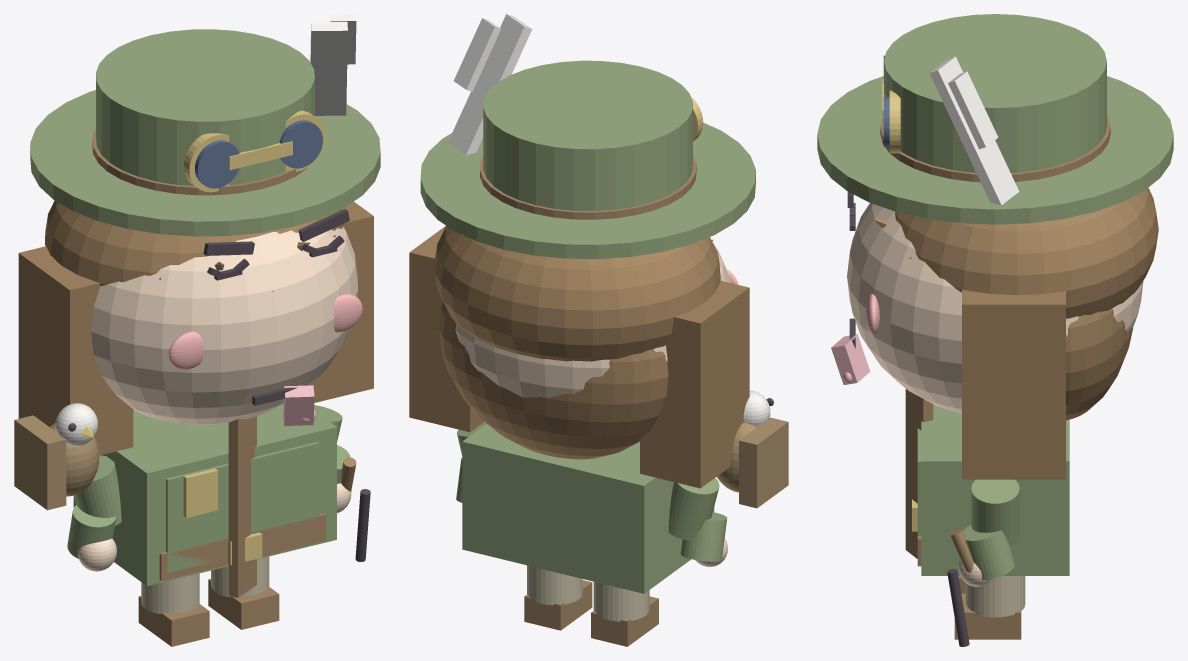
File: tamer.glb
The picture shows the model from 3 angles, left to right: view 1: azimuth 30°, elevation 25°; view 2: azimuth 150°, elevation 25°; view 3: azimuth 270°, elevation 25°; orthographic projection. The views are drawn at different scales.
Parts seen in each view (by area): view 1: Head, HatCrown, HatBrim, Coat, HairSide_L, CoatFront, HairCap, HairSide_R, Sash, EagleWing, Belt, Feather (+24 smaller); view 2: HatCrown, HairCap, Coat, HatBrim, HairSide_L, HairBack, HairSide_R, Head, EagleWing, Feather, HatBand, UpperArm_L (+8 smaller); view 3: HatCrown, HatBrim, HairSide_R, HairCap, Head, Coat, HairBack, Feather, UpperArm_R, Sash, Leg_R, HatBand (+8 smaller).
Part boxes in pixels (x1,y1,x2,y2): Head: (91,226,357,424); HatCrown: (96,29,314,185); HatBrim: (30,90,380,236); Coat: (73,404,336,585); HairSide_L: (18,246,133,455); CoatFront: (166,442,319,572); HairCap: (45,200,343,286); HairSide_R: (310,201,373,402); Sash: (228,416,256,597); EagleWing: (14,415,66,510); Belt: (159,513,326,580); Feather: (310,22,347,115); HatCrown: (483,60,692,210); HairCap: (434,226,720,361); Coat: (462,424,714,593); HatBrim: (420,122,755,258); HairSide_L: (640,280,749,488); HairBack: (439,300,668,459); HairSide_R: (409,226,484,432); Head: (455,243,731,397); EagleWing: (739,417,788,508); Feather: (448,14,532,154); HatBand: (480,155,696,219); UpperArm_L: (668,478,719,540); HatCrown: (884,14,1106,172); HatBrim: (817,76,1173,224); HairSide_R: (962,290,1065,479); HairCap: (895,187,1158,318); Head: (847,203,1143,413); Coat: (921,404,1069,575); HairBack: (1066,308,1132,420); Feather: (929,56,1019,205); UpperArm_R: (971,479,1019,546); Sash: (905,389,933,558); Leg_R: (965,576,1025,617); HatBand: (880,115,1110,182).
Size of the model in its own units: 1.19 by 2 by 1.08.
